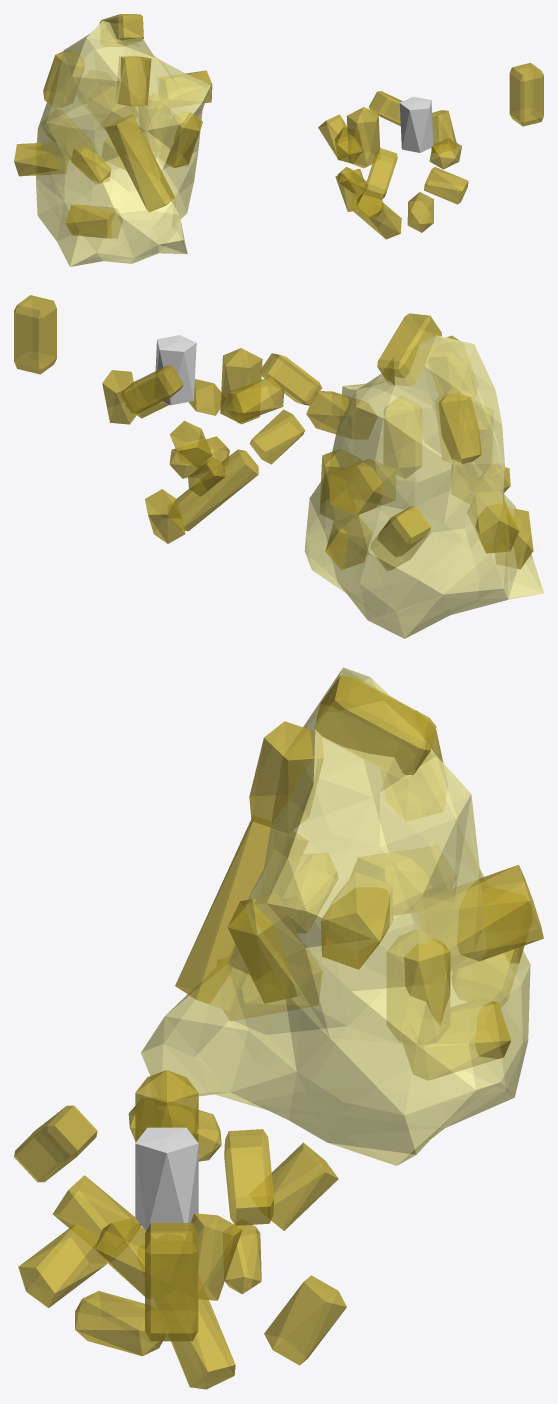
Rendered from TopazDeposit_v1.fbx.
3 views of the same model, one above another, from view 1: azimuth 30°, elevation 25°; view 2: azimuth 150°, elevation 25°; view 3: azimuth 270°, elevation 25° (orthographic). The views are drawn at different scales.
Visible parts, largest first — view 1: Icosphere, Icosphere.013, Icosphere.005, Cube, Icosphere.002, Icosphere.001; view 2: Icosphere, Icosphere.013, Icosphere.005, Cube, Icosphere.001, Icosphere.002; view 3: Icosphere, Icosphere.013, Icosphere.005, Cube, Icosphere.002, Icosphere.001.
Boxes of the visible parts, <box> form: Icosphere: <box>36,20,210,266</box>; Icosphere.013: <box>14,14,212,238</box>; Icosphere.005: <box>318,91,468,239</box>; Cube: <box>509,62,543,126</box>; Icosphere.002: <box>399,96,433,152</box>; Icosphere.001: <box>346,107,380,168</box>; Icosphere: <box>304,330,543,638</box>; Icosphere.013: <box>306,313,533,570</box>; Icosphere.005: <box>102,353,321,543</box>; Cube: <box>14,295,56,374</box>; Icosphere.001: <box>220,348,262,424</box>; Icosphere.002: <box>155,335,196,405</box>; Icosphere: <box>141,667,530,1165</box>; Icosphere.013: <box>175,675,543,1080</box>; Icosphere.005: <box>14,1105,346,1389</box>; Cube: <box>145,1223,198,1341</box>; Icosphere.002: <box>135,1127,198,1230</box>; Icosphere.001: <box>135,1070,198,1142</box>.
Size of the model in its own units: 1829 by 960 by 930.
